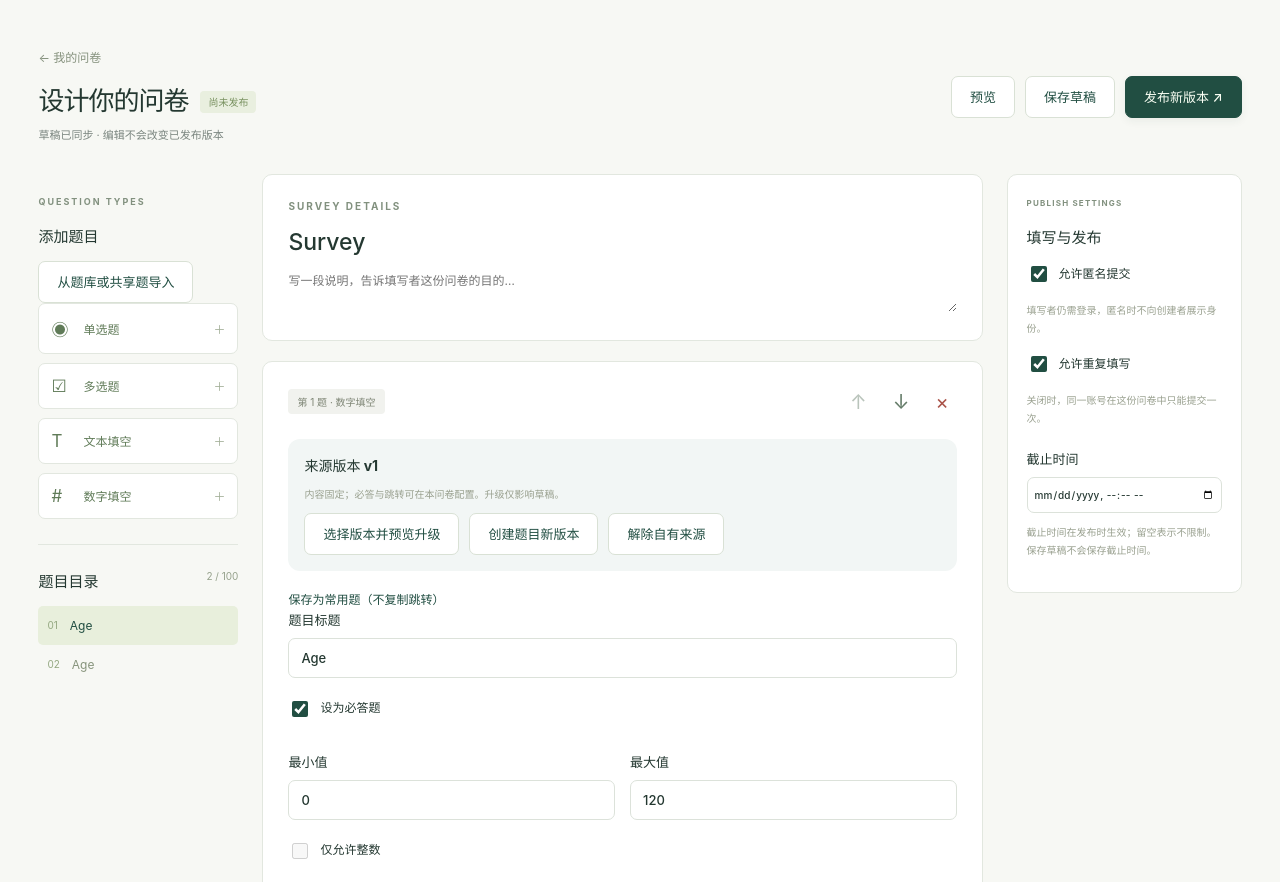
Test: local editing with unchanged server revision invalidates preview
Click the button "选择版本并预览升级" at (382, 534), box [304,513,459,555]
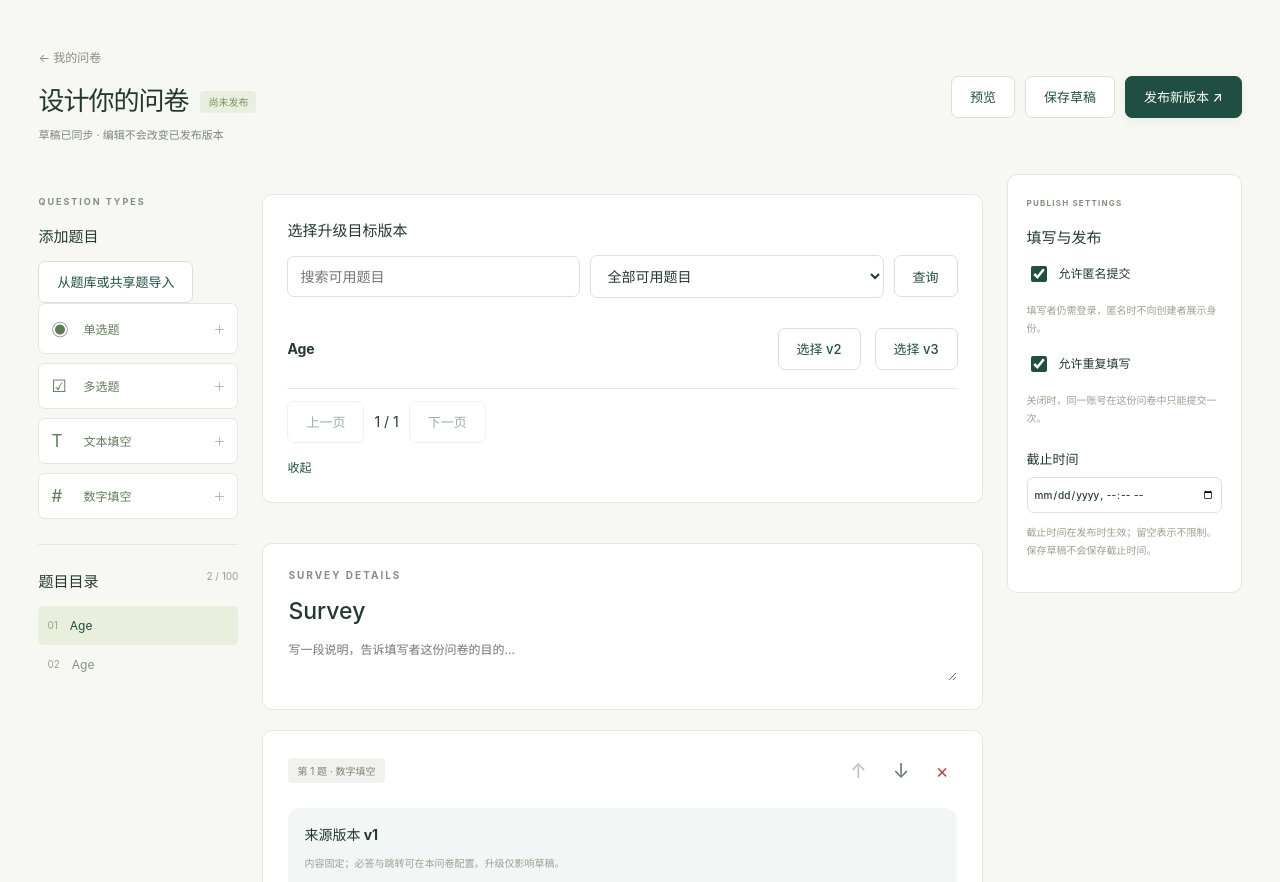
Click the button "选择 v2" at (819, 349), box [778,328,861,370]
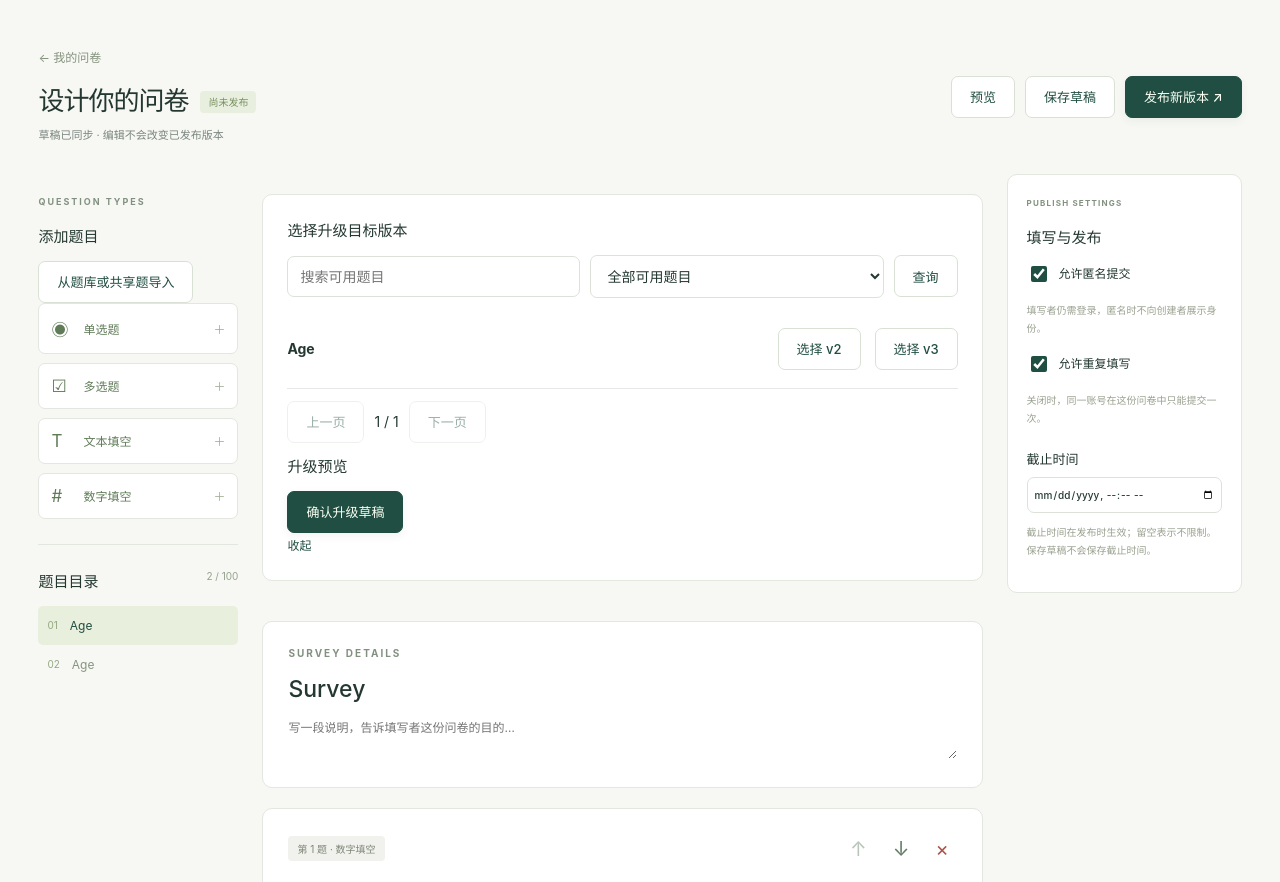
Replace the text in the field with placeholder "填写问卷标题" with "Changed" at (622, 696), box [288,675,957,718]
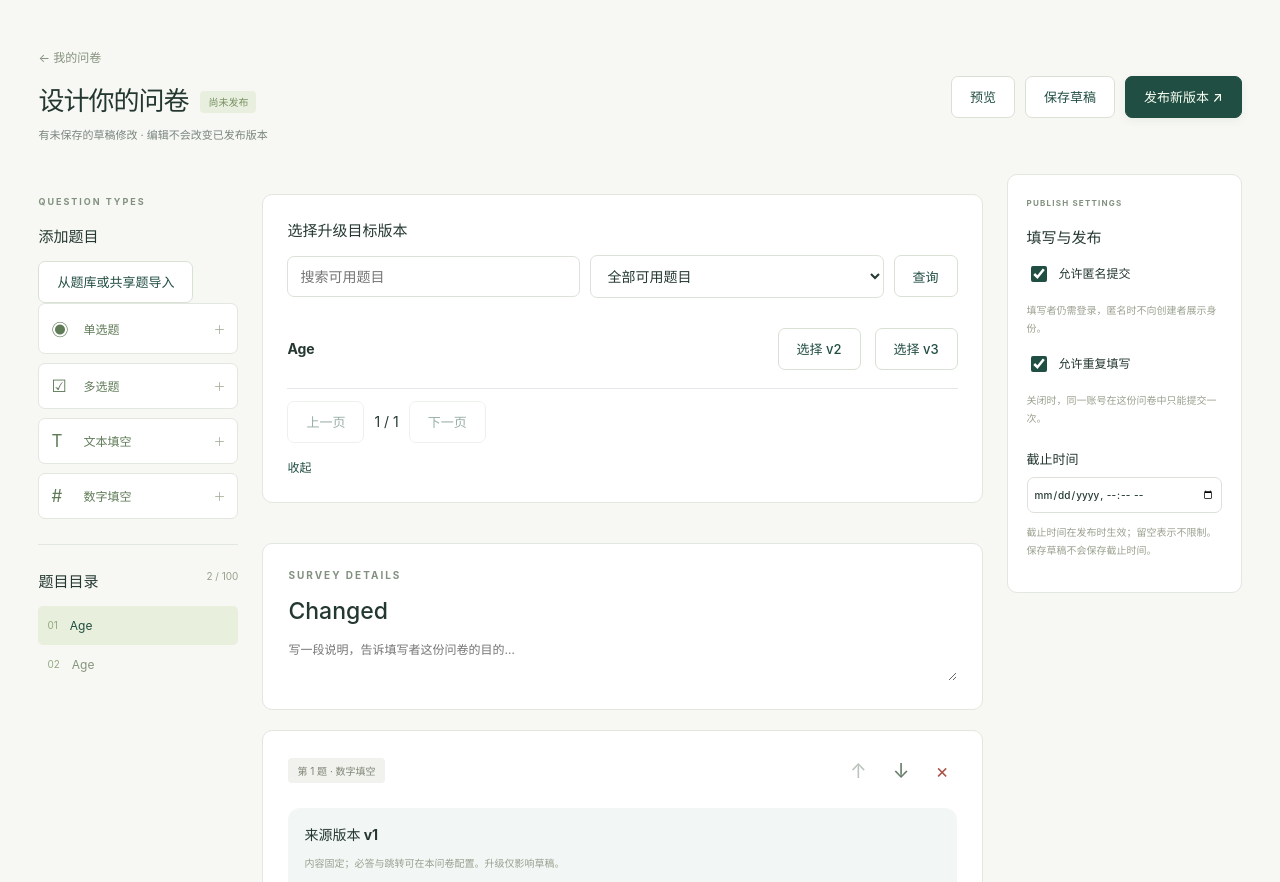
expect the text "确认升级草稿" is gone: met
